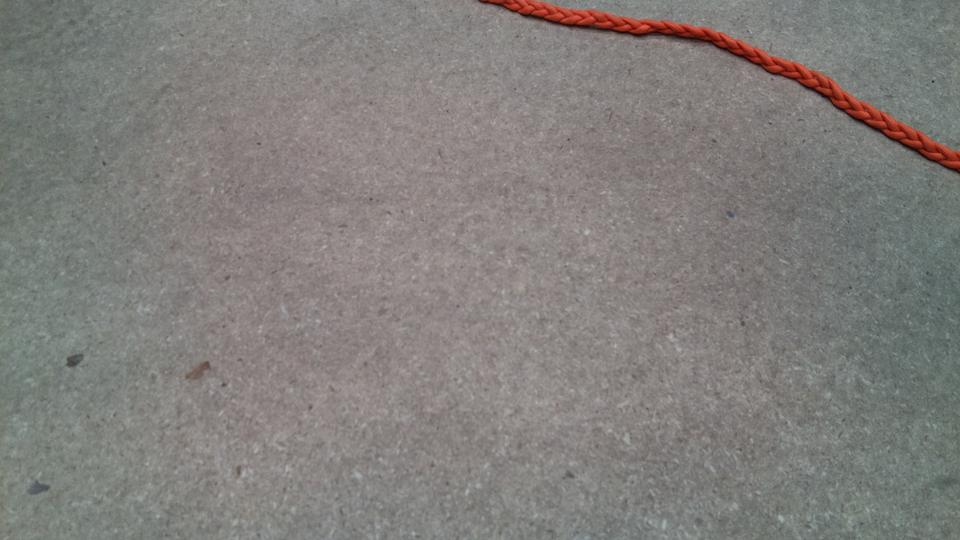rope: (518, 1, 960, 159)
